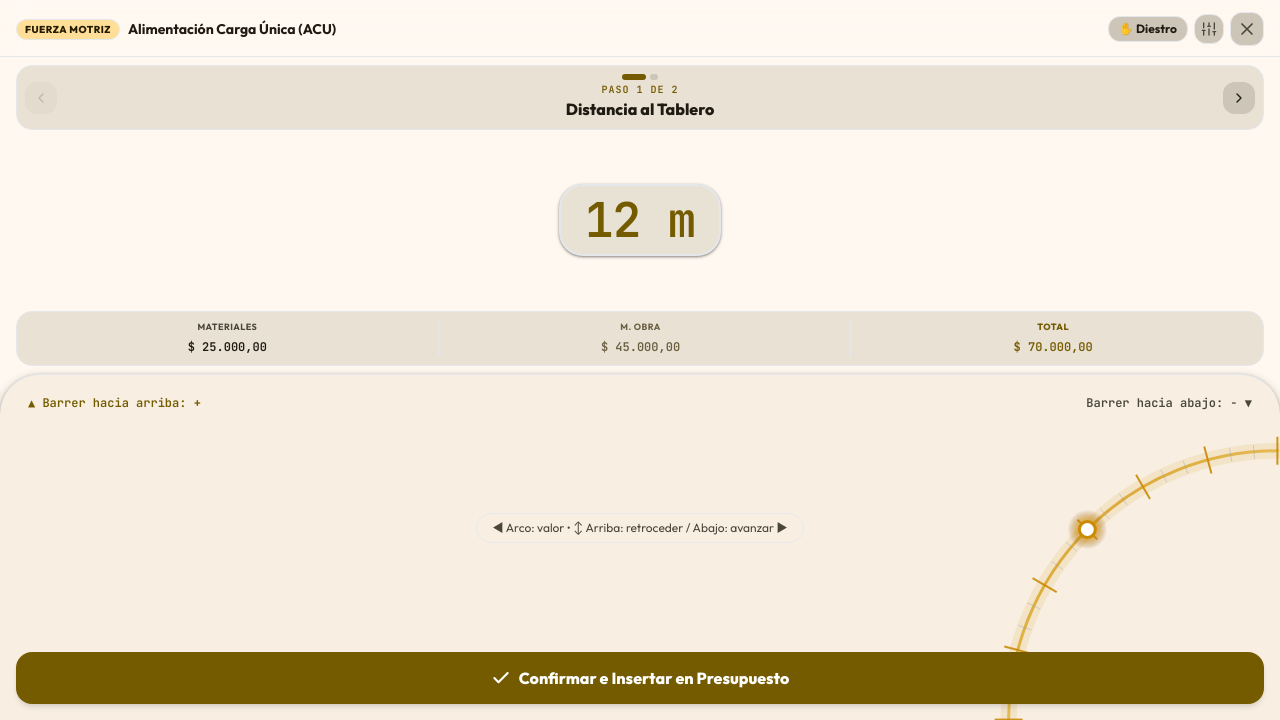
Test: GestureParametricSheet › navigates between parameters using arrows
Expected: the heading "Distancia al Tablero" is shown, [566,99,714,119]
What coordinates should you click on to do the following:
click the button named "Siguiente parámetro"
I would click on:
 (1239, 98)
Its box is [1223,82,1255,114].
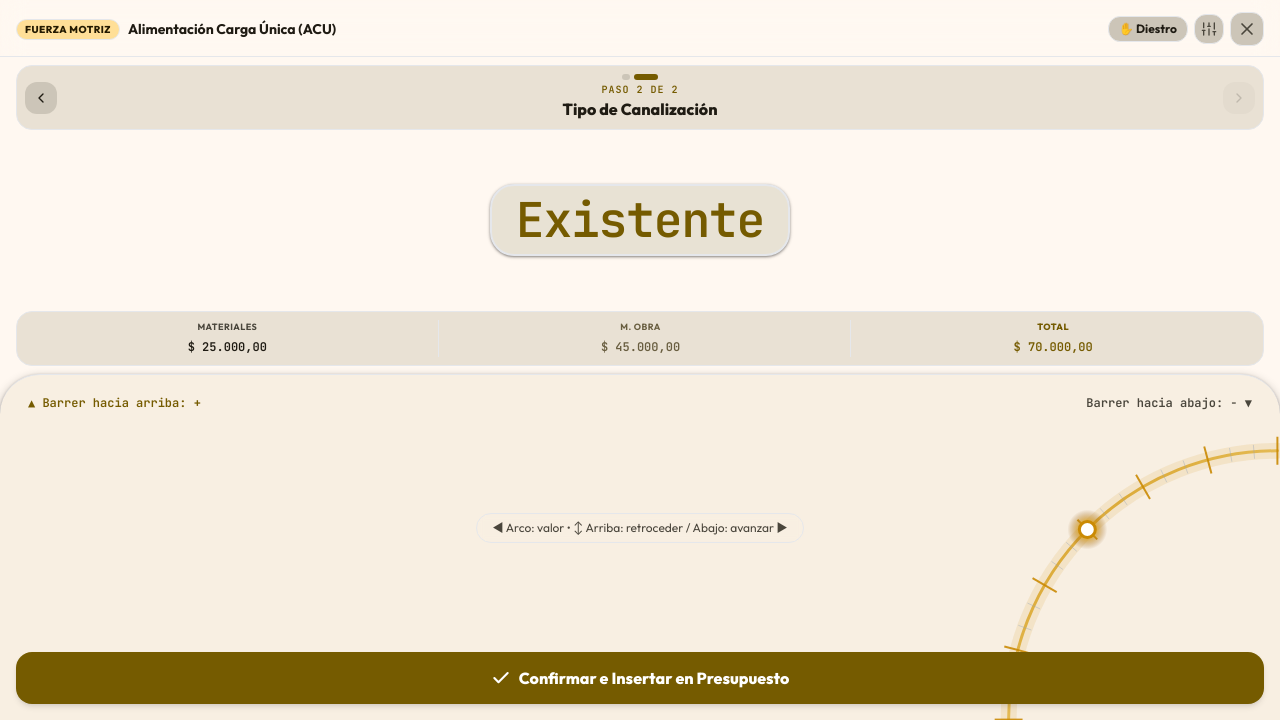
Now the heading "Tipo de Canalización" is shown, box [562,99,718,119]
